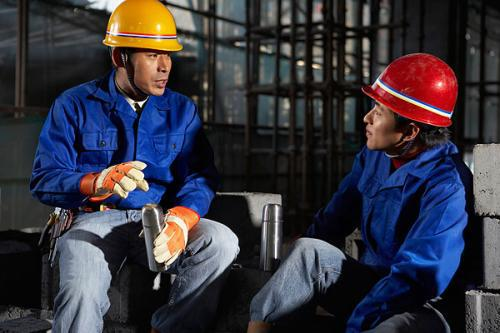helmet: (352, 38, 470, 161), (95, 1, 189, 100)
